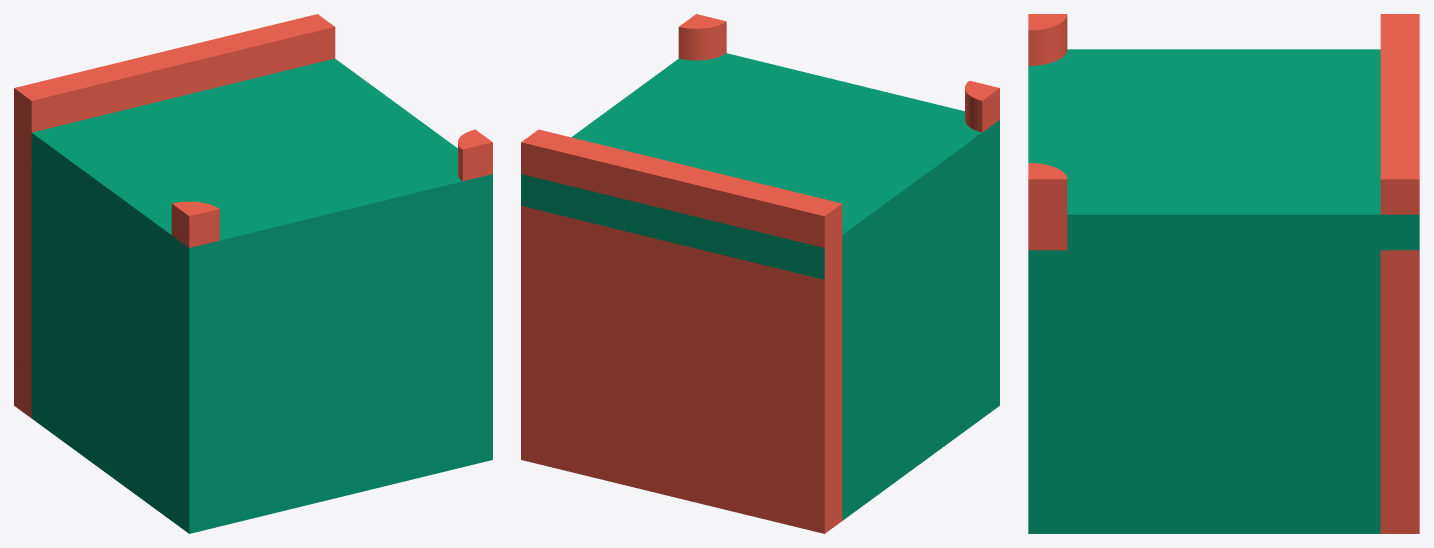
The model's file is tsplit.glb.
The picture shows the model from 3 angles, left to right: view 1: azimuth 30°, elevation 25°; view 2: azimuth 150°, elevation 25°; view 3: azimuth 270°, elevation 25°; orthographic projection. The views are drawn at different scales.
Parts seen in each view (by area): view 1: mergedBlocks(Clone); view 2: mergedBlocks(Clone); view 3: mergedBlocks(Clone).
Boxes of the visible parts, <box> form: mergedBlocks(Clone): <box>14,14,492,533</box>; mergedBlocks(Clone): <box>521,14,999,533</box>; mergedBlocks(Clone): <box>1028,14,1419,533</box>.
Size of the model in its own units: 1 by 1 by 1.
